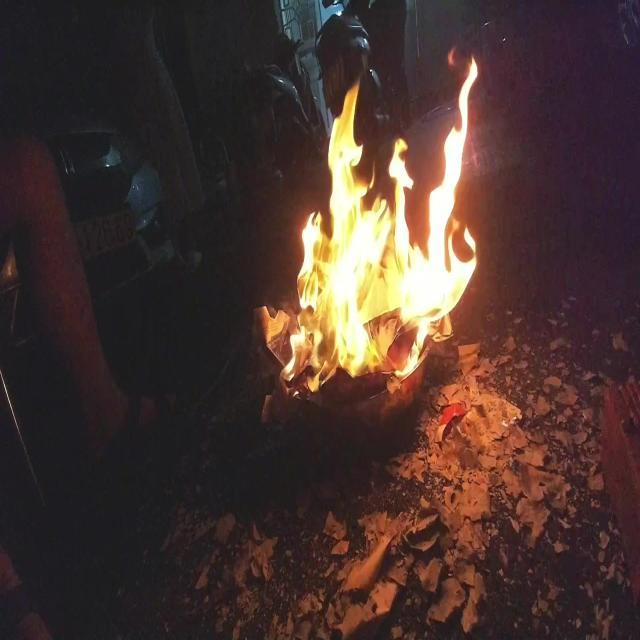Fire: (260, 51, 479, 398)
